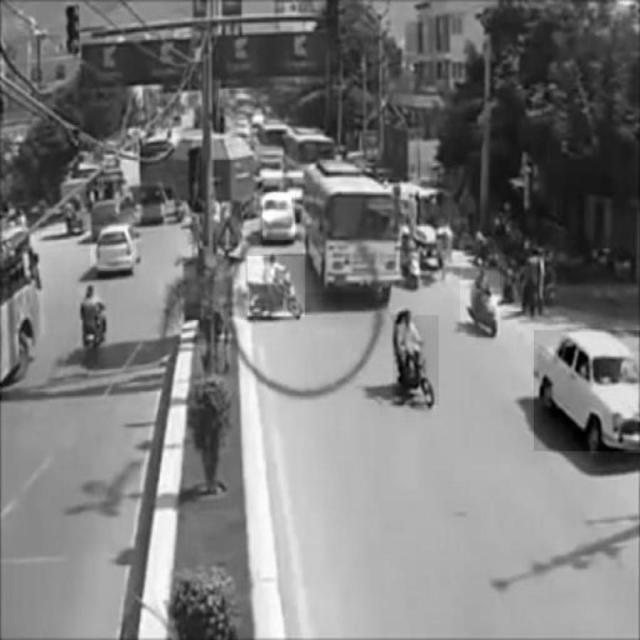vehicle: (534, 330, 640, 451), (303, 168, 394, 292), (393, 315, 439, 405), (247, 257, 305, 317), (460, 267, 500, 335), (77, 288, 112, 359), (90, 224, 136, 268), (263, 193, 295, 240)
